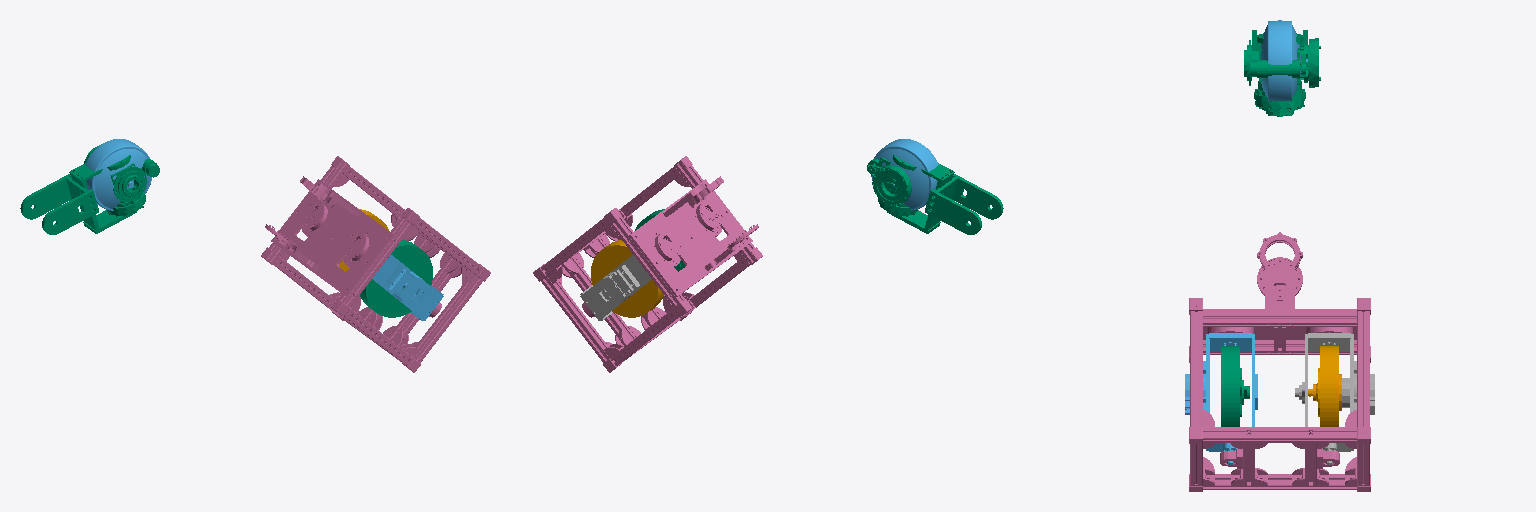
--- What the picture shows (computed from the rendered views, not written in the file) ---
The picture shows the robot from 3 angles, left to right: view 1: azimuth 30°, elevation 25°; view 2: azimuth 150°, elevation 25°; view 3: azimuth 270°, elevation 25°; orthographic projection.
Robot: wheeled_inverted_pendulum — 11 links, 10 joints (6 revolute, 3 continuous, 1 fixed); root link wheel; default pose: joints at zero except 4 at the middle of their limits (wheel_joint = 1.3, ankle_pitch_joint = 1.3, knee_joint = -1.55, hip_pitch_joint = 1.3).
Links seen in each view (by area): view 1: frame, ankle_link, wheel_link, Right_gimbal, Right_flywheel; view 2: frame, ankle_link, Left_gimbal, wheel_link, Left_flywheel; view 3: frame, ankle_link, Left_gimbal, wheel_link, Right_gimbal, Left_flywheel, Right_flywheel.
Boxes of the visible links, x1,y1,x2,y2 form: frame: (261,156,490,372); ankle_link: (20,144,159,234); wheel_link: (85,139,151,210); Right_gimbal: (372,255,443,320); Right_flywheel: (360,240,432,317); frame: (533,156,762,372); ankle_link: (867,155,1003,234); Left_gimbal: (580,255,651,320); wheel_link: (871,139,938,210); Left_flywheel: (591,240,663,317); frame: (1189,232,1370,491); ankle_link: (1244,30,1320,116); Left_gimbal: (1295,333,1374,464); wheel_link: (1260,20,1307,101); Right_gimbal: (1185,333,1257,464); Left_flywheel: (1308,346,1341,426); Right_flywheel: (1221,346,1249,426).
Bounding box of the posed robot: 0.9368 × 0.3059 × 0.565 m (x, y, z).
Meshes: 10 distinct files referenced, 7 mesh visuals loaded (7 binary STL); not drawn: 3 (reference not matched to a file when rendering).

The robot description file, URDF, robot "wheeled_inverted_pendulum":
<?xml version="1.0"?>

<robot name="wheeled_inverted_pendulum">

        <link name="wheel">		    
		</link>

        <joint name="cmg_joint" type="continuous">
		    <origin xyz="0 0 0.069" rpy="0.0 0.0 0.0" /> 
		    <parent link="wheel"/>
		    <child link="wheel_link"/>
            <axis xyz="0 1 0"/>
            <limit effort="100" velocity="1000"/>
            <joint_properties damping="1.0" friction="1.0"/>
		</joint> 

         <link name="wheel_link">
            <visual>
                <origin xyz="0.0 0.0 -0.0" rpy="0 0.0 0"/> 
                <geometry>
                    <mesh filename="package://cmg_leg_description/meshes/wheel_link.STL" scale="0.001 0.001 0.001"/>         
                </geometry>
                <material name=""/>
            </visual>

            <collision>                
                <origin xyz="0 0 -0.0" rpy="0 0.0 0"/>
                <geometry>
                    <mesh filename="package://cmg_leg_description/meshes/wheel_link.STL" scale="0.001 0.001 0.001"/>                 
                </geometry>
            </collision>

            <inertial>
                <mass value="2.292" />
                <origin xyz="0 0 -0.0" />
                <inertia ixx="0.002997277" ixy="0.0" ixz="0.0" iyy="0.004806909" iyz="0.0" izz="0.002997301"/>
            </inertial>
        </link> 

<!-- ######################################################################################### -->

        <joint name="wheel_joint" type="revolute">
		    <!-- <origin xyz="0 -0.0045 -0.451221" rpy="0.0 0.0 0.0" />  -->
		    <origin xyz="0 0 0.0" rpy="0.0 0.0 0.0" /> 
            <axis xyz="0 1 0"/>
		    <parent link="wheel_link"/>
		    <child link="ankle_link" />
            <limit effort="100" velocity="1000" upper="2.5" lower="0.1"/>
            <joint_properties damping="1.0" friction="1.0"/>
		</joint>

        <link name="ankle_link">
            <visual>
                <origin xyz="0.0 0.0 0.0" rpy="0 0.0 0"/> 
                <geometry>
                    <mesh filename="package://cmg_leg_description/meshes/ankle_link.STL" scale="0.001 0.001 0.001"/>         
                </geometry>
                <material name=""/>
                    
            </visual>

            <collision>
                <origin xyz="0 0 0" rpy="0 0.0 0"/>
                <geometry>
                    <!-- <box size = "  0.127 0.168778 0.958442 "/>                     -->
                    <mesh filename="package://cmg_leg_description/meshes/ankle_link.STL" scale="0.001 0.001 0.001"/>
                </geometry>
            </collision>

            <inertial>
                <mass value="2.786" /> 
                <origin xyz="0.0 0.0 0.227234" rpy="0 0.0 0"/>
                <inertia ixx="0.006981371" ixy="0.000264258"  ixz="0.000196616"  iyy="0.007514491"  iyz="0.000229715" izz="0.005584527" />
            </inertial>
        </link> 

<!-- ######################################################################################### -->
<!-- 0.171 -->
        <joint name="ankle_pitch_joint" type="revolute">
		    <origin xyz="0 0 0.279942" rpy="0.0 0 0.0" /> 
            <!-- -0.7577 -->
            <axis xyz="0 1 0"/>
		    <parent link="ankle_link"/>
		    <child link="knee_ankle_link" />
            <limit effort="1000" velocity="1000" upper="2.5" lower="0.1"/>
            <joint_properties damping="1.0" friction="1.0"/>
		</joint> 

        <link name="knee_ankle_link">
            <visual>
                <origin xyz="0.000045 -0.059 0" rpy="3.14 -0 0"/> 
                <geometry>
                    <mesh filename="package://cmg_leg_description/meshes/knee_to_ankle_pitch_link.STL" scale="0.001 0.001 0.001"/>         
                </geometry>
                <material name=""/>
                    
            </visual>

            <collision>
                <origin xyz="0.000045 -0.059 0" rpy="3.14 -0 0"/>
                <geometry>
                    <!-- <box size = "  0.127 0.168778 0.958442 "/>                     -->
                    <mesh filename="package://cmg_leg_description/meshes/knee_to_ankle_pitch_link.STL" scale="0.001 0.001 0.001"/>
                </geometry>
            </collision>

            <inertial>
                <mass value="1.416" /> 
                <origin xyz="0.0 0 -0.12016" rpy="3.14 -0 0"/>
                <inertia ixx="0.010192583" ixy="0.000128782"  ixz="0.000780769"  iyy="0.009599672"  iyz="-0.000476197" izz="0.002390603" />
            </inertial>
        </link>

<!-- ######################################################################################### -->

        <joint name="knee_joint" type="revolute">
		    <origin xyz="0 0 0.28" rpy="0.0 0 0.0" /> 
            <!-- 1.6321 -->
            <axis xyz="0 1 0"/>
		    <parent link="knee_ankle_link"/>
		    <child link="hip_to_knee_link" />
            <limit effort="1000" velocity="1000" upper="-0.1" lower="-3.0"/>
            <joint_properties damping="1.0" friction="1.0"/>
		</joint>

        <link name="hip_to_knee_link">
            <visual>
                <origin xyz="0.0 0.0665 0" rpy="3.14 0 0"/> 
                <geometry>
                    <mesh filename="package://cmg_leg_description/meshes/hip_to_knee_link.STL" scale="0.001 0.001 0.001"/>         
                </geometry>
                <material name=""/>
                    
            </visual>

            <collision>
                <origin xyz="0 0.0665 0.0" rpy="3.14 0 0"/>
                <geometry>
                    <!-- <box size = "  0.127 0.168778 0.958442 "/>                     -->
                    <mesh filename="package://cmg_leg_description/meshes/hip_to_knee_link.STL" scale="0.001 0.001 0.001"/>
                </geometry>
            </collision>

            <inertial>
                <mass value="1.739" /> 
                <origin xyz="0.0 0 -0.14958" rpy="3.14 0 0"/>
                <inertia ixx="0.008595913" ixy="0.000104152"  ixz="0.000298503"  iyy="0.007917693"  iyz="-0.000246913" izz="0.002944951" />
            </inertial>
        </link>

<!-- ######################################################################################### -->

        <joint name="hip_pitch_joint" type="revolute">
		    <!-- <origin xyz="0 -0.0045 -0.451221" rpy="0.0 0.0 0.0" />  -->
		    <origin xyz="0 0 0" rpy="0.0 0 0.0" />
            <!-- -0.8744  -->
            <axis xyz="0 1 0"/>
		    <parent link="hip_to_knee_link"/>
		    <child link="hip_link" />
            <limit effort="1000" velocity="1000" upper="2.5" lower="0.1"/>
            <joint_properties damping="1.0" friction="1.0"/>
		</joint>

        <link name="hip_link">
            <visual>
                <origin xyz="-0.042455 0 0" rpy="3.14 0 0"/> 
                <geometry>
                    <mesh filename="package://cmg_leg_description/meshes/hip_link.STL" scale="0.001 0.001 0.001"/>         
                </geometry>
                <material name=""/>
            </visual>

            <collision>
                <origin xyz="-0.042455 0 0" rpy="3.14 0 0"/>
                <geometry>
                    <!-- <box size = "  0.127 0.168778 0.958442 "/>                     -->
                    <mesh filename="package://cmg_leg_description/meshes/hip_link.STL" scale="0.001 0.001 0.001"/>
                </geometry>
            </collision>

            <inertial>
                <mass value="3.325" /> 
                <origin xyz="0.0 0.0 0.0" rpy="3.14 0.0 0"/>
                <inertia ixx="0.005616834" ixy="0.00038757"  ixz="-0.000670089"  iyy="0.006407443"  iyz="-0.000643705" izz="0.006621237" />
            </inertial>
        </link>

<!-- ######################################################################################### -->
<!-- -0.220996 -->
        <joint name="hip_roll_joint" type="fixed">
            <origin xyz="0 0 0.2222" rpy="0 0 0"/>
            <parent link="hip_link"/>
            <child link="frame"/>
            <!-- <axis xyz="1 0 0"/>
            <limit effort="100" velocity="1000" upper="0.785" lower="-0.785"/>
            <joint_properties damping="1.0" friction="1.0"/> -->
        </joint>

        <link name="frame">
            <visual>
                <origin xyz="0 0 0" rpy="1.5708 0.0 0"/> <!--xyz="0.0 0.0 0.0" rpy="0 0.0 0" -->
                <geometry>
                    <mesh filename="package://cmg_leg_description/meshes/cmg_link.STL" scale="0.001 0.001 0.001"/>         
                </geometry>
                <material name=""/>
            </visual>

            <collision>
                <origin xyz="0 0 0" rpy="1.5708 0.0 0.0"/>
                <geometry>
                    <mesh filename="package://cmg_leg_description/meshes/cmg_link.STL" scale="0.001 0.001 0.001"/>
                </geometry>
            </collision>

            <inertial>
                <mass value="2.84" /> <!--3.037-->
                <origin xyz="0 0 -0.05" rpy="1.5708 0.0 0"/>
                <inertia ixx="0.069831822" ixy="0.000002709"  ixz="0.001167158"  iyy="0.062838135"  iyz="0.000012214"  izz="0.037865996" />
            </inertial>
        </link>

<!-- ######################################################################################### -->

        <joint name="Left_gimbal_joint" type="revolute">
            <!-- <origin xyz="-0.000001 0.08 -0.0015" rpy="0 0 1.57"/> -->
            <origin xyz="0 0.08 0" rpy="0 0 0"/>
            <axis xyz="0 0 1" />
            <parent link="frame"/>
            <child link="Left_gimbal"/>            
            <limit effort="100" velocity="100" upper="1.57" lower="-1.57"/>
            <!-- <calibration falling="1.0"/> -->
            <joint_properties damping="0.0" friction="0.0"/>
            <mimic joint="Right_gimbal_joint" multiplier="-1.0"/>

        </joint>

<!-- ######################################################################################### -->

        <link name="Left_gimbal">
            <visual>
                <origin xyz="0.0 0.0 0.0" rpy="0 0.0 0"/> 
                <geometry>
                    <mesh filename="package://cmg_leg_description/meshes/left_gimbal_link.STL" scale="0.001 0.001 0.001"/>         
                </geometry>
                <material name=""/>
            </visual>
            <collision>
                <origin xyz="0 0 0" rpy="0 0.0 0.0"/>
                <geometry>
                    <mesh filename="package://cmg_leg_description/meshes/left_gimbal_link.STL" scale="0.001 0.001 0.001"/>        
                </geometry>
            </collision>
            <inertial>
                <mass value="1" /><!-- 1.095 -->
                <origin xyz="0 0 0" />
                <inertia ixx="0.003773117" ixy="0" ixz="0" iyy="0.003989672" iyz="0" izz="0.00061837"/>
            </inertial>
        </link>

<!-- ######################################################################################### -->

         <joint name="Left_flywheel_joint" type="continuous">
            <origin xyz="0 0 0" rpy="0 0 0"/>
            <axis xyz="0 1 0" />
            <parent link="Left_gimbal"/>
            <child link="Left_flywheel"/>
            <limit effort="100" velocity="1000"/>
            <joint_properties damping="0.0" friction="0.0"/>
            <mimic joint="Right_gimbal_joint" multiplier="-1.0"/>
        </joint>

<!-- ######################################################################################### -->

        <link name="Left_flywheel">
            <visual>
                <origin xyz="0 0 0" rpy="0 0 0" />
                <geometry>
                    <mesh filename="package://cmg_leg_description/meshes/left_flywheel_link.STL" scale="0.001 0.001 0.001" />
                </geometry>
                <material name=""/>
            </visual>

            <collision>
                <geometry>
                    <mesh filename="package://cmg_leg_description/meshes/left_flywheel_link.STL" scale="0.001 0.001 0.001" />
                </geometry>
            </collision>

            <inertial>
                <mass value="4" />
                <origin xyz="0 0 0" />
                <inertia ixx="0.005950" ixy="0" ixz="0" iyy="0.011299999" iyz="0" izz="0.005950"/>
            </inertial>
        </link>

<!-- ######################################################################################### -->

        <joint name="Right_gimbal_joint" type="revolute">            
            <origin xyz="0 -0.08 0" rpy="0 0 0"/>
            <axis xyz="0 0 1" />
            <parent link="frame"/>
            <child link="Right_gimbal"/>            
            <limit effort="100" velocity="100" upper="1.57" lower="-1.57"/>
            <joint_properties damping="0.0" friction="0"/>
        </joint>

<!-- ######################################################################################### -->

        <link name="Right_gimbal">
            <visual>
                <origin xyz="0.0 0.0 0.0" rpy="0 0.0 3.14"/> 
                <geometry>
                    <mesh filename="package://cmg_leg_description/meshes/right_gimbal_link.STL" scale="0.001 0.001 0.001"/>         
                </geometry>
                <material name=""/>
            </visual>
            <collision>
                <origin xyz="0 0 0" rpy="0 0.0 3.14"/>
                <geometry>
                    <mesh filename="package://cmg_leg_description/meshes/right_gimbal_link.STL" scale="0.001 0.001 0.001"/>        
                </geometry>
            </collision>
            <inertial>
                <mass value="1" />
                 <!-- 1.095 -->
                <origin xyz="0 0 0" />
                <inertia ixx="0.003773117" ixy="0" ixz="0" iyy="0.003989672" iyz="0" izz="0.00061837"/>
            </inertial>
        </link>

<!-- ######################################################################################### -->

        <joint name="Right_flywheel_joint" type="continuous">
            <origin xyz="0 0 0" rpy="0 0 0"/>
            <axis xyz="0 1 0" />
            <parent link="Right_gimbal"/>
            <child link="Right_flywheel"/>
            <limit effort="100" velocity="1000"/>
            <joint_properties damping="0.0" friction="0.0"/>
        </joint>

<!-- ######################################################################################### -->

        <link name="Right_flywheel">
            <visual>
                <origin xyz="0 0 0" rpy="3.14 0 0" />
                <geometry>
                    <mesh filename="package://cmg_leg_description/meshes/right_flywheel_link.STL" scale="0.001 0.001 0.001" />
                </geometry>
                <material name=""/>
            </visual>

            <collision>
                <origin xyz="0 0 0" rpy="3.14 0 0" />
                <geometry>
                    <mesh filename="package://cmg_leg_description/meshes/right_flywheel_link.STL" scale="0.001 0.001 0.001" />
                </geometry>
            </collision>

            <inertial>
                <mass value="4" />
                <origin xyz="0 0 0" />
                <inertia ixx="0.005950" ixy="0" ixz="0" iyy="0.011299999" iyz="0" izz="0.005950"/>
            </inertial>
        </link>

<!-- ######################################################################################### -->

        <gazebo reference="frame">
            <mu1>1.0</mu1>
            <mu2>1.0</mu2> 
            <kp>1e+13</kp>
            <kd>1.0</kd>
            <maxVel>0.001</maxVel>
            <minDepth>0.00000000001</minDepth>
            <gravity>1</gravity>
            <material>Gazebo/Grey</material>
            <!-- <selfCollide>true</selfCollide> -->
        </gazebo>

        <gazebo reference="Left_gimbal">
            <mu1>1.0</mu1>
            <mu2>1.0</mu2> 
            <kp>1e+13</kp>
            <kd>1.0</kd>
            <maxVel>0.001</maxVel>
            <minDepth>0.00000000001</minDepth>
            <gravity>1</gravity>
            <material>Gazebo/Grey</material>
            <selfCollide>true</selfCollide>
        </gazebo>

        <gazebo reference="Left_flywheel">
            <mu1>1.0</mu1>
            <mu2>1.0</mu2> 
            <kp>1e+13</kp>
            <kd>1.0</kd>
            <maxVel>0.001</maxVel>
            <minDepth>0.00000000001</minDepth>
            <gravity>1</gravity>
            <material>Gazebo/White</material>
        </gazebo>


        <gazebo reference="Right_gimbal">
            <mu1>1.0</mu1>
            <mu2>1.0</mu2> 
            <kp>1e+13</kp>
            <kd>1.0</kd>
            <maxVel>0.001</maxVel>
            <minDepth>0.00000000001</minDepth>
            <gravity>1</gravity>
            <material>Gazebo/Grey</material>
            <selfCollide>true</selfCollide>
        </gazebo>

        <gazebo reference="Right_flywheel">
            <mu1>1.0</mu1>
            <mu2>1.0</mu2> 
            <kp>1e+13</kp>
            <kd>1.0</kd>
            <maxVel>0.001</maxVel>
            <minDepth>0.00000000001</minDepth>
            <gravity>1</gravity>
            <material>Gazebo/White</material>
        </gazebo>


<!-- ######################################################################################### -->

        <gazebo reference="hip_link">
            <mu1>1.0</mu1>
            <mu2>1.0</mu2> 
            <kp>1e+13</kp>
            <kd>1.0</kd>
            <maxVel>0.001</maxVel>
            <minDepth>0.00000000001</minDepth>
            <gravity>1</gravity>
            <material>Gazebo/Grey</material>
        </gazebo>

        <gazebo reference="hip_to_knee_link">
            <mu1>1.0</mu1>
            <mu2>1.0</mu2> 
            <kp>1e+13</kp>
            <kd>1.0</kd>
            <maxVel>0.001</maxVel>
            <minDepth>0.00000000001</minDepth>
            <gravity>1</gravity>
            <material>Gazebo/Grey</material>
        </gazebo>

        <gazebo reference="knee_ankle_link">
            <mu1>1.0</mu1>
            <mu2>1.0</mu2> 
            <kp>1e+13</kp>
            <kd>1.0</kd>
            <maxVel>0.001</maxVel>
            <minDepth>0.00000000001</minDepth>
            <gravity>1</gravity>
            <material>Gazebo/Grey</material>
        </gazebo>

        <gazebo reference="ankle_link">
            <mu1>1.0</mu1>
            <mu2>1.0</mu2> 
            <kp>1e+13</kp>
            <kd>1.0</kd>
            <maxVel>0.001</maxVel>
            <minDepth>0.00000000001</minDepth>
            <gravity>1</gravity>
            <material>Gazebo/Grey</material>
        </gazebo>

        <gazebo reference="wheel_link">
            <collision name="wheel_collision">
                <surface>
                    <friction>
                        <torsional>
                            <coefficient>1</coefficient>
                            <use_patch_radius>true</use_patch_radius>
                            <patch_radius>0.02</patch_radius>
                        </torsional>
                    </friction>
                </surface>
            </collision>
            <mu1>1.0</mu1>
            <mu2>1.0</mu2> 
            <kp>1e+13</kp>
            <kd>1.0</kd>
            <maxVel>0.001</maxVel>
            <minDepth>0.00000000001</minDepth>
            <gravity>1</gravity>
            <material>Gazebo/White</material>
        </gazebo>


<!-- ######################################################################################### -->

        <gazebo>
            <plugin name="gazebo_ros_control" filename="libgazebo_ros_control.so">
                <controlPeriod>0.001</controlPeriod>
                <robotNamespace>/wheeled_inverted_pendulum</robotNamespace>
                <!-- <jointName> Right_gimbal_joint, Left_gimbal_joint, Left_flywheel_joint, Right_flywheel_joint, hip_roll_joint, hip_pitch_joint, knee_joint, ankle_pitch_joint, ankle_roll_joint, wheel_joint </jointName> -->
                <robotSimType>gazebo_ros_control/DefaultRobotHWSim</robotSimType>
                <legacyModeNS>true</legacyModeNS>
            </plugin>
        </gazebo>

        <gazebo>
            <plugin name="mimic_control" filename="libroboticsgroup_upatras_gazebo_mimic_joint_plugin.so">
                <joint>Right_gimbal_joint</joint>
                <mimicJoint>Left_gimbal_joint</mimicJoint>
                <multiplier>-1.0</multiplier>
                <!-- <hasPID>/gazebo_ros_control/pid_gains/Left_gimbal_joint</hasPID> -->
                <!-- /gazebo_ros_control/pid_gains/Left_gimbal_joint -->
            </plugin>
        </gazebo>

        <transmission name="Left_flywheel_trans">
            <type>transmission_interface/SimpleTransmission</type>
            <joint name="Left_flywheel_joint" >
                <hardwareInterface>hardware_interface/VelocityJointInterface</hardwareInterface>
            </joint>
            <actuator name="Left_flywheel_motor">
                <hardwareInterface>hardware_interface/VelocityJointInterface</hardwareInterface>
                <mechanicalReduction>1</mechanicalReduction>
            </actuator>
        </transmission>

        <!-- <transmission name="Left_gimbal_trans">
            <type>transmission_interface/SimpleTransmission</type>
            <joint name="Left_gimbal_joint" >
                <hardwareInterface>hardware_interface/EffortJointInterface</hardwareInterface>
            </joint>
            <actuator name="Left_gimbal_motor">
                <hardwareInterface>hardware_interface/EffortJointInterface</hardwareInterface>
                <mechanicalReduction>1</mechanicalReduction>
            </actuator>
        </transmission> -->


        <transmission name="Right_flywheel_trans">
            <type>transmission_interface/SimpleTransmission</type>
            <joint name="Right_flywheel_joint" >
                <hardwareInterface>hardware_interface/VelocityJointInterface</hardwareInterface>
            </joint>
            <actuator name="Right_flywheel_motor">
                <hardwareInterface>hardware_interface/VelocityJointInterface</hardwareInterface>
                <mechanicalReduction>1</mechanicalReduction>
            </actuator>
        </transmission>

        <transmission name="Right_gimbal_trans">
            <type>transmission_interface/SimpleTransmission</type>
            <joint name="Right_gimbal_joint" >
                <hardwareInterface>hardware_interface/EffortJointInterface</hardwareInterface>
            </joint>
            <actuator name="Right_gimbal_motor">
                <hardwareInterface>hardware_interface/EffortJointInterface</hardwareInterface>
                <mechanicalReduction>1</mechanicalReduction>
            </actuator>
        </transmission>

<!-- ######################################################################################### -->

        <!-- <transmission name="hip_roll_trans">
            <type>transmission_interface/SimpleTransmission</type>
            <joint name="hip_roll_joint" >
                <hardwareInterface>hardware_interface/PositionJointInterface</hardwareInterface>
            </joint>
            <actuator name="hip_roll_motor">
                <hardwareInterface>hardware_interface/PositionJointInterface</hardwareInterface>
                <mechanicalReduction>1</mechanicalReduction>
            </actuator>
        </transmission> -->

        <transmission name="hip_pitch_trans">
            <type>transmission_interface/SimpleTransmission</type>
            <joint name="hip_pitch_joint" >
                <hardwareInterface>hardware_interface/EffortJointInterface</hardwareInterface>
            </joint>
            <actuator name="hip_pitch_motor">
                <hardwareInterface>hardware_interface/EffortJointInterface</hardwareInterface>
                <mechanicalReduction>1</mechanicalReduction>
            </actuator>
        </transmission>

        <transmission name="knee_trans">
            <type>transmission_interface/SimpleTransmission</type>
            <joint name="knee_joint" >
                <hardwareInterface>hardware_interface/EffortJointInterface</hardwareInterface>
            </joint>
            <actuator name="knee_motor">
                <hardwareInterface>hardware_interface/EffortJointInterface</hardwareInterface>
                <mechanicalReduction>1</mechanicalReduction>
            </actuator>
        </transmission>

        <transmission name="ankle_pitch_trans">
            <type>transmission_interface/SimpleTransmission</type>
            <joint name="ankle_pitch_joint" >
                <hardwareInterface>hardware_interface/EffortJointInterface</hardwareInterface>
            </joint>
            <actuator name="ankle_pitch_motor">
                <hardwareInterface>hardware_interface/EffortJointInterface</hardwareInterface>
                <mechanicalReduction>1</mechanicalReduction>
            </actuator>
        </transmission>

        <transmission name="wheel_trans">
            <type>transmission_interface/SimpleTransmission</type>
            <joint name="wheel_joint" >
                <hardwareInterface>hardware_interface/EffortJointInterface</hardwareInterface>
            </joint>
            <actuator name="wheel_motor">
                <hardwareInterface>hardware_interface/EffortJointInterface</hardwareInterface>
                <mechanicalReduction>1</mechanicalReduction>
            </actuator>
        </transmission>

<!-- EffortJointInterface
PositionJointInterface
VelocityJointInterface -->

</robot>
